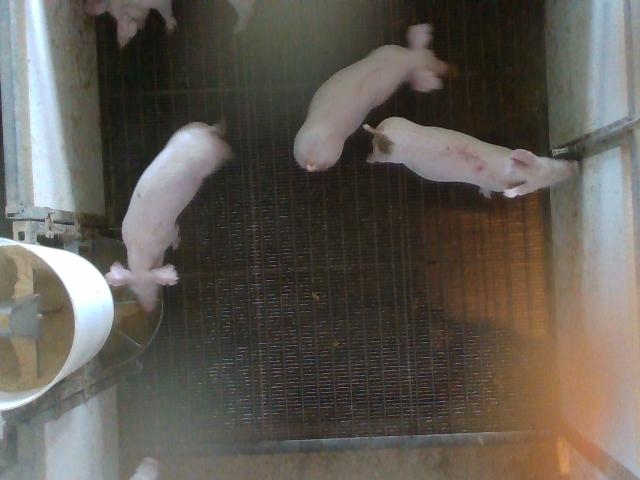pig-5: (364, 118, 579, 198)
